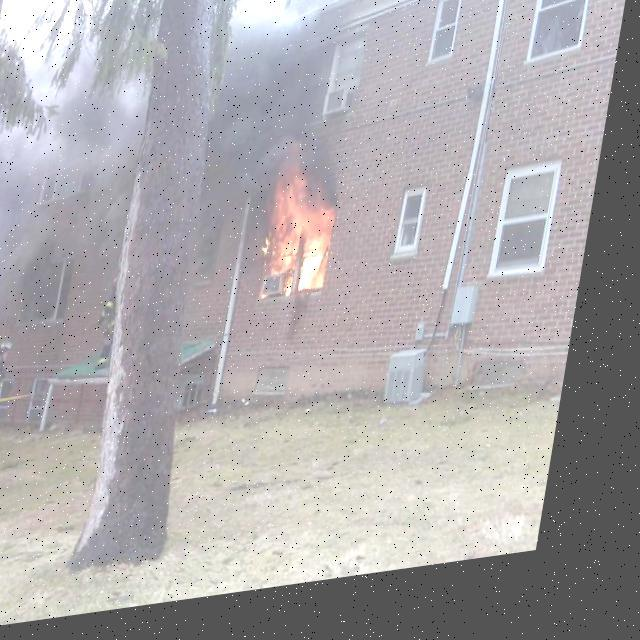Fire: (264, 158, 354, 308)
